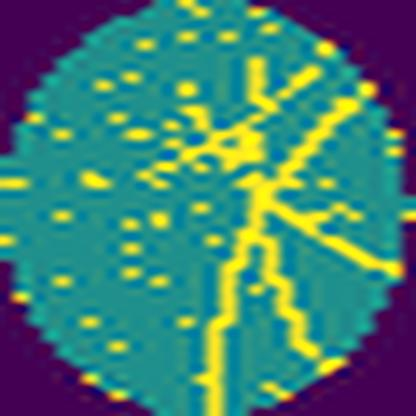Scratch: (188, 88, 409, 416), (131, 50, 328, 192)
